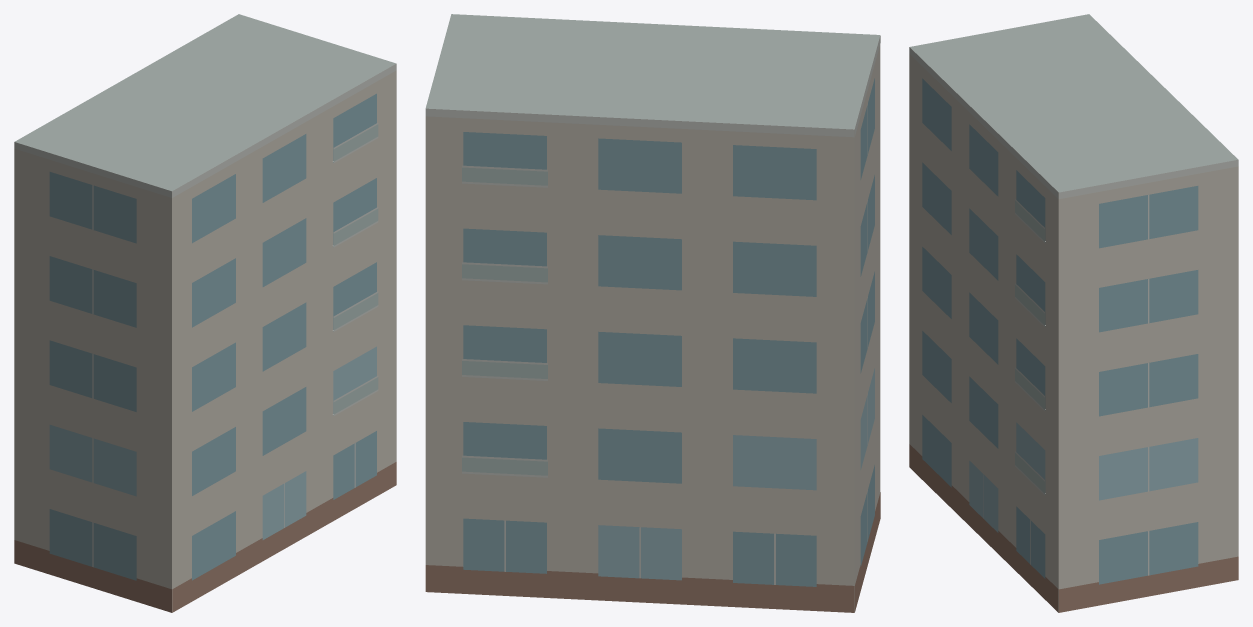
The model's file is residential-1946533a-8dab-447d-9d68-108125a4b524.glb.
3 views of the same model, side by side, from view 1: azimuth 30°, elevation 25°; view 2: azimuth 150°, elevation 25°; view 3: azimuth 270°, elevation 25° (orthographic). The views are drawn at different scales.
Visible parts, largest first — view 1: residential-1946533a-8dab-447d-9d68-108125a4b524.tmp; view 2: residential-1946533a-8dab-447d-9d68-108125a4b524.tmp; view 3: residential-1946533a-8dab-447d-9d68-108125a4b524.tmp.
Part boxes in pixels (x1,y1,x2,y2): residential-1946533a-8dab-447d-9d68-108125a4b524.tmp: [14, 14, 396, 612]; residential-1946533a-8dab-447d-9d68-108125a4b524.tmp: [425, 14, 880, 612]; residential-1946533a-8dab-447d-9d68-108125a4b524.tmp: [909, 14, 1238, 612].
Size of the model in its own units: 13.91 by 15.25 by 10.83.
